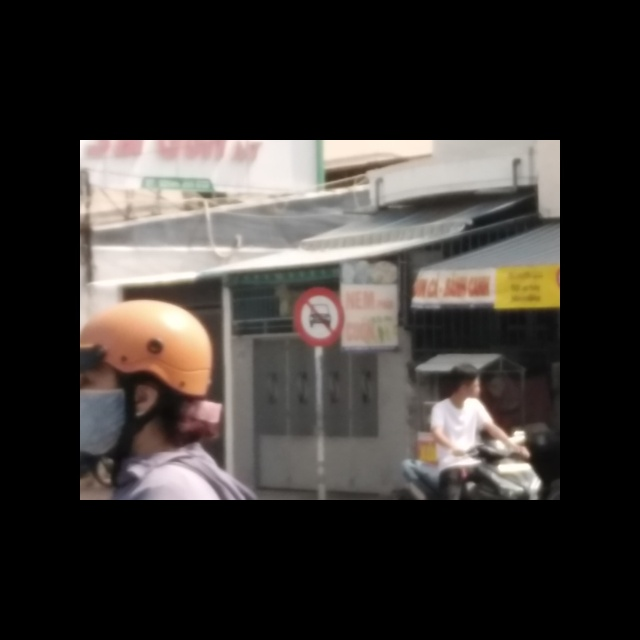Cấm xe ô tô: (291, 287, 346, 347)
